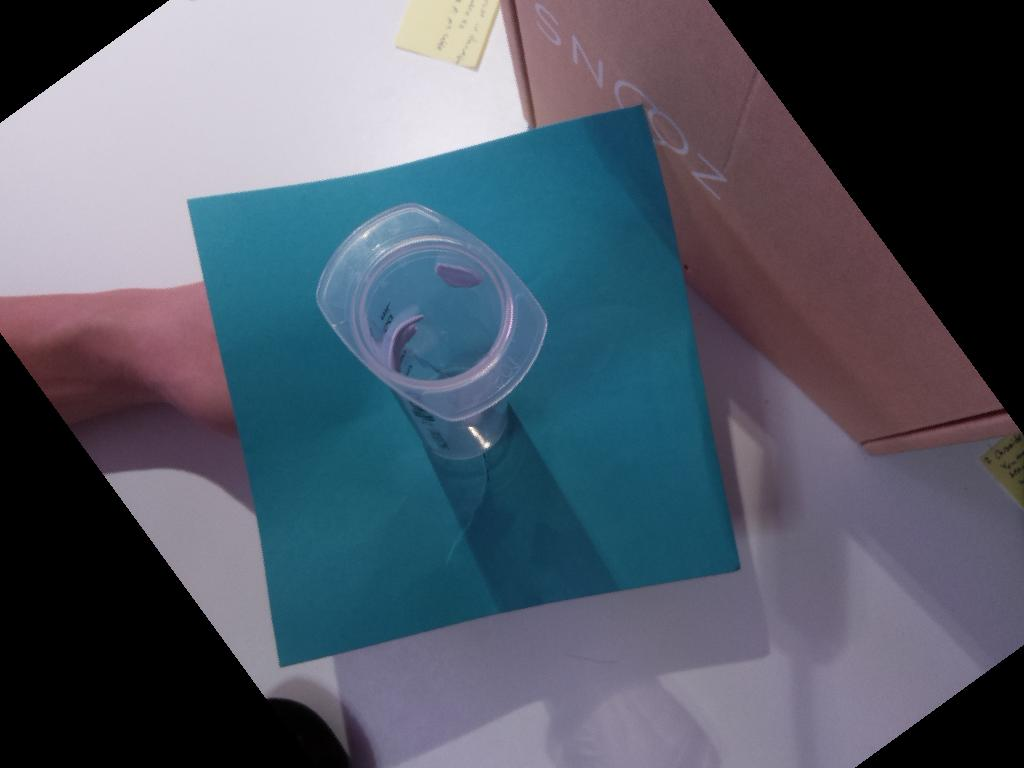dirty: (316, 201, 548, 421)
